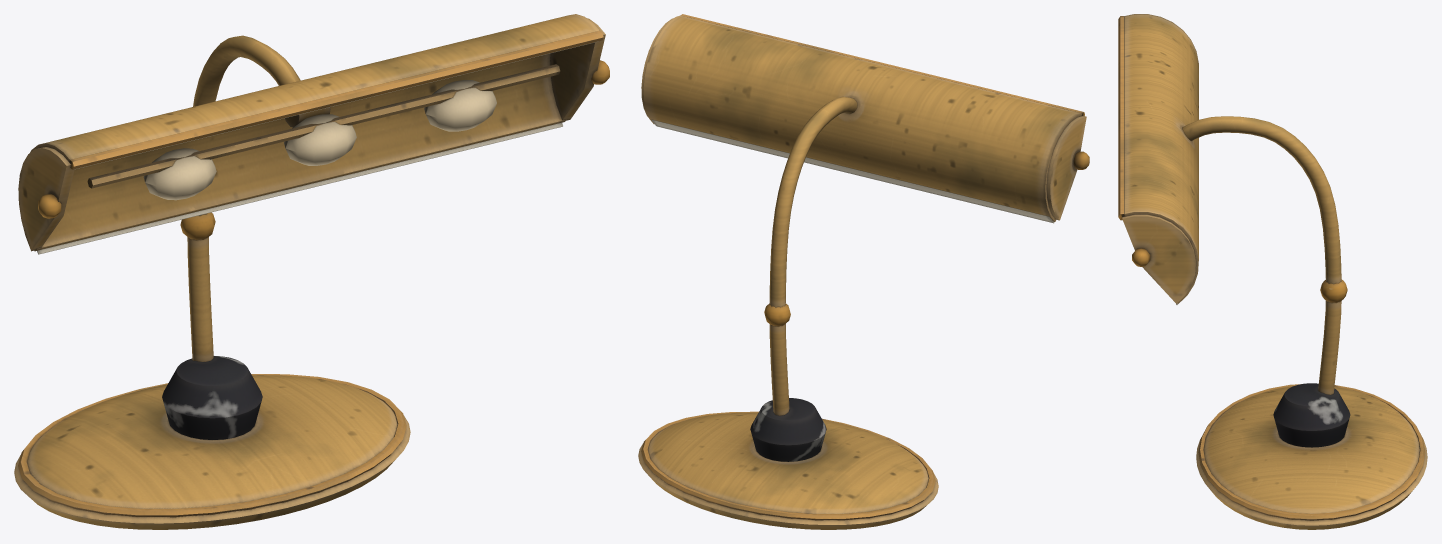
File: PianoLamp.fbx
3 renders of one model, left to right at view 1: azimuth 30°, elevation 25°; view 2: azimuth 150°, elevation 25°; view 3: azimuth 270°, elevation 25°, orthographic. The views are drawn at different scales.
Parts seen in each view (by area): view 1: PianoLamp_Main, PianoLamp_Glow; view 2: PianoLamp_Main; view 3: PianoLamp_Main.
Part boxes in pixels (box(x1,y1,x2,y2)): PianoLamp_Main: box(14, 14, 609, 529); PianoLamp_Glow: box(143, 80, 496, 200); PianoLamp_Main: box(638, 14, 1089, 529); PianoLamp_Main: box(1118, 14, 1427, 529).
Size of the model in its own units: 183 by 141 by 112.
